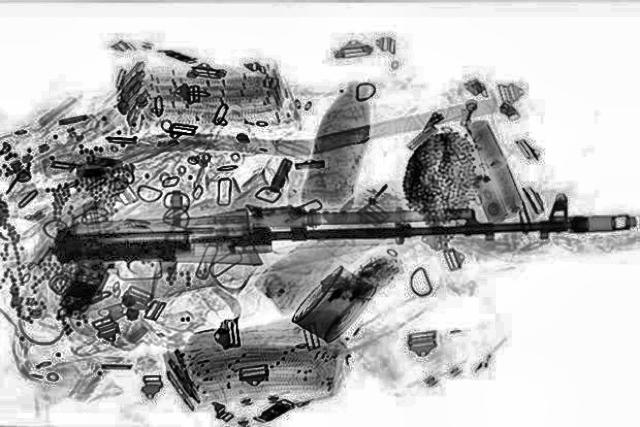Gun: (48, 193, 634, 321)
